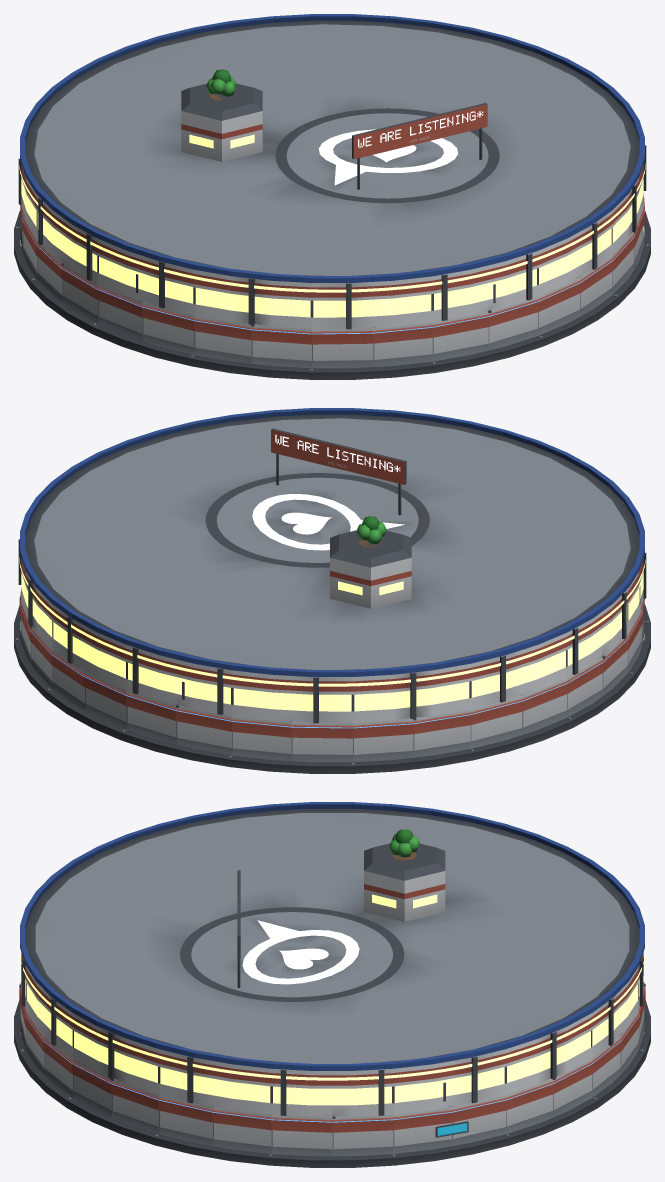
The model's file is hr_office_l.glb.
The picture shows the model from 3 angles, top to bottom: view 1: azimuth 30°, elevation 25°; view 2: azimuth 150°, elevation 25°; view 3: azimuth 270°, elevation 25°; orthographic projection.
Visible parts, largest first — view 1: Roof, Base, PorchTop, Upper_21, Upper_20, Upper_22, Upper_19, Wall_21, Upper_23, Wall_20, Wall_22, Wall_19 (+19 smaller); view 2: Roof, Base, PorchTop, Upper_10, Upper_11, Upper_09, Upper_12, Wall_10, Wall_11, Upper_08, Wall_09, Wall_12 (+19 smaller); view 3: Roof, Base, Upper_00, Upper_31, PorchTop, Upper_30, Upper_01, Wall_00, Wall_31, Upper_02, Upper_29, Wall_30 (+19 smaller).
Part boxes in pixels (x1,y1,x2,y2): Roof: (20,14,644,278); Base: (14,210,650,379); PorchTop: (19,103,645,292); Upper_21: (312,282,372,329); Upper_20: (251,278,311,328); Upper_22: (373,276,432,327); Upper_19: (194,270,251,324); Wall_21: (312,327,373,368); Upper_23: (432,265,487,321); Wall_20: (251,324,311,368); Wall_22: (373,322,433,366); Wall_19: (194,315,251,363); Roof: (20,408,644,672); Base: (14,604,650,773); PorchTop: (19,428,645,686); Upper_10: (292,676,352,723); Upper_11: (353,672,413,722); Upper_09: (232,670,291,721); Upper_12: (413,664,470,718); Wall_10: (291,721,352,762); Wall_11: (353,718,413,762); Upper_08: (177,659,232,715); Wall_09: (231,716,291,760); Wall_12: (413,709,470,757); Roof: (20,802,644,1065); Base: (14,1000,650,1167); Upper_00: (332,1069,393,1116); Upper_31: (271,1069,332,1116); PorchTop: (19,870,645,1080); Upper_30: (213,1061,271,1114); Upper_01: (393,1061,451,1114); Wall_00: (332,1114,393,1156); Wall_31: (271,1114,332,1156); Upper_02: (451,1049,505,1105); Upper_29: (159,1049,213,1105); Wall_30: (212,1106,271,1153).
Bounding box in the file's own units: 18.96 × 5.5 × 18.96.
